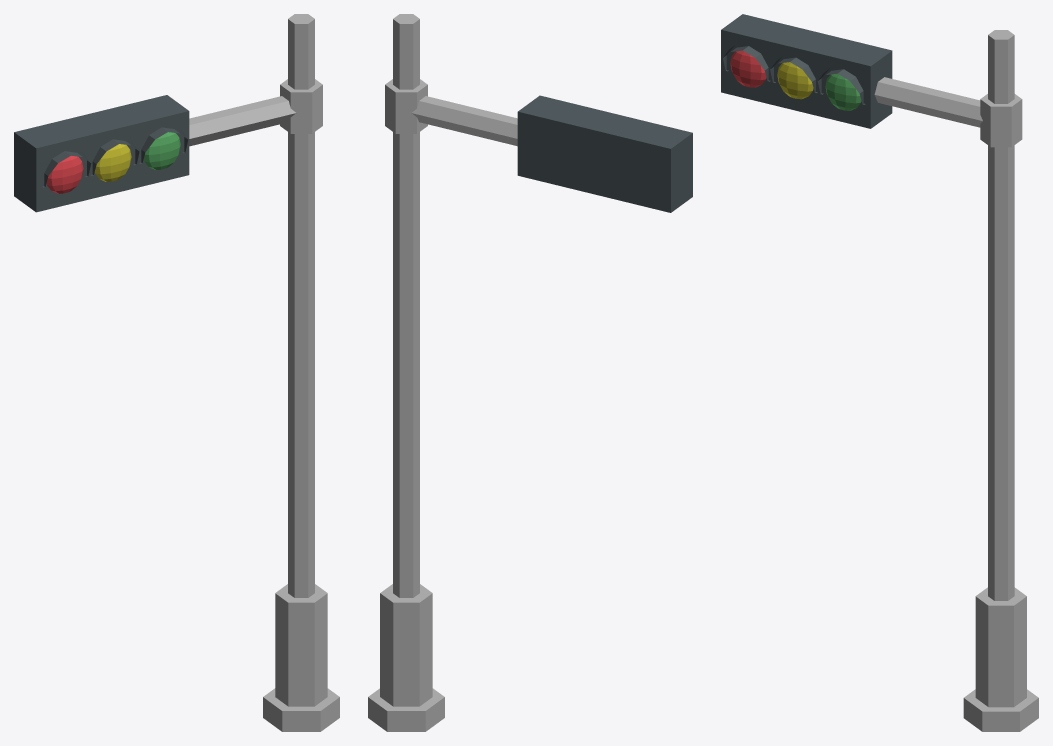
Rendered from props-traffic-signal-big.glb.
3 views of the same model, side by side, from view 1: azimuth 30°, elevation 25°; view 2: azimuth 150°, elevation 25°; view 3: azimuth 330°, elevation 25° (orthographic). The views are drawn at different scales.
Visible parts, largest first — view 1: model; view 2: model; view 3: model.
Part boxes in pixels (x1,y1,x2,y2): model: [14, 14, 339, 731]; model: [368, 14, 692, 731]; model: [721, 14, 1038, 731].
Size of the model in its own units: 2.75 by 6.02 by 0.6.
Materials: 1 (1 with a texture image).
